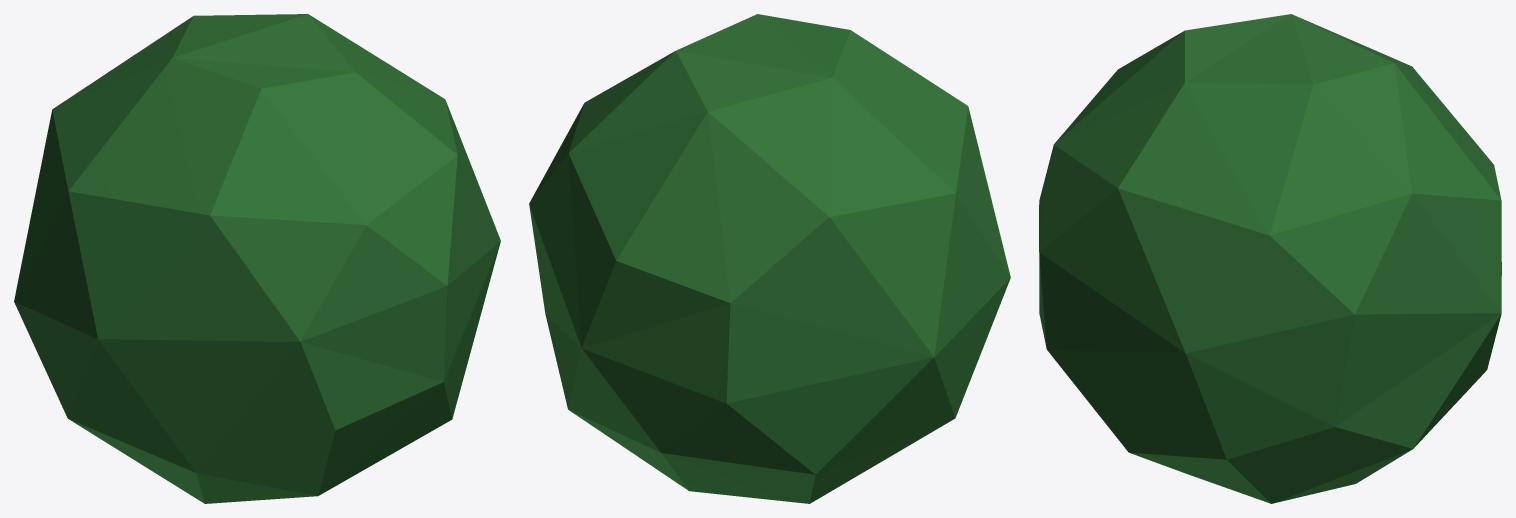
The model's file is nature_shrub-round.fbx.
3 views of the same model, side by side, from view 1: azimuth 30°, elevation 25°; view 2: azimuth 150°, elevation 25°; view 3: azimuth 270°, elevation 25° (orthographic).
Parts seen in each view (by area): view 1: nature_shrub_round; view 2: nature_shrub_round; view 3: nature_shrub_round.
Boxes of the visible parts, x1,y1,x2,y2 form: nature_shrub_round: (14, 14, 500, 503); nature_shrub_round: (529, 14, 1010, 503); nature_shrub_round: (1039, 14, 1501, 503).
Size of the model in its own units: 200 by 199 by 200.
